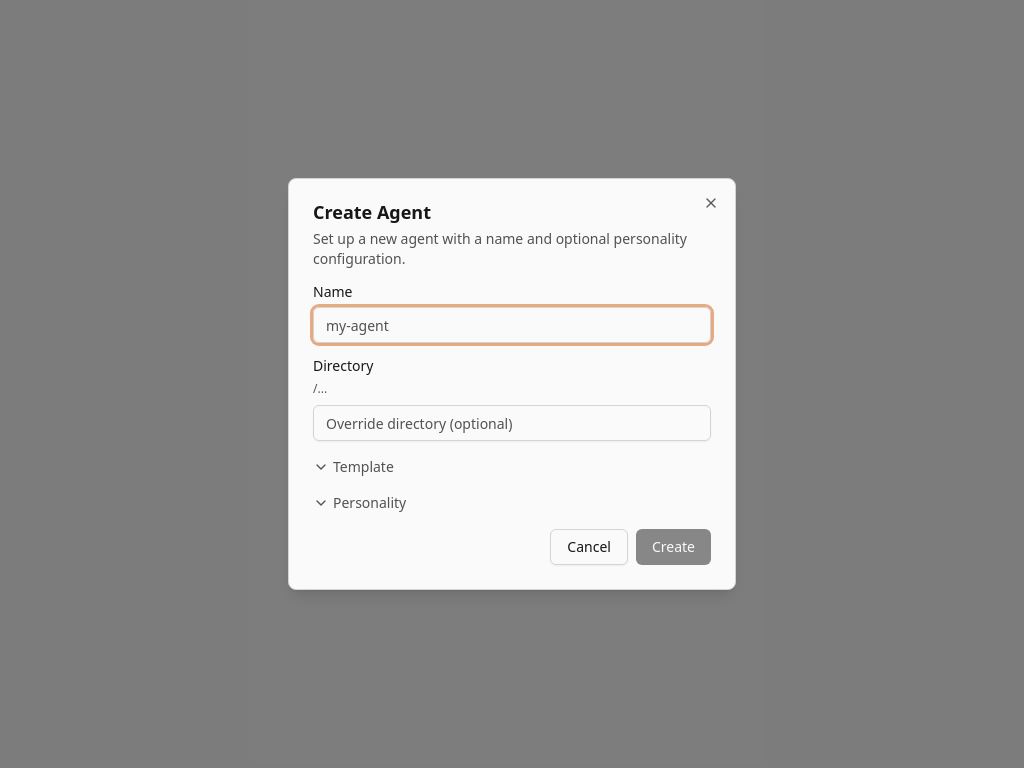
Test: CreateAgentDialog › toggles personality section via collapsible
Step 1. Click the button "Personality" → x=370, y=502, box left=313, top=493, right=711, bottom=513
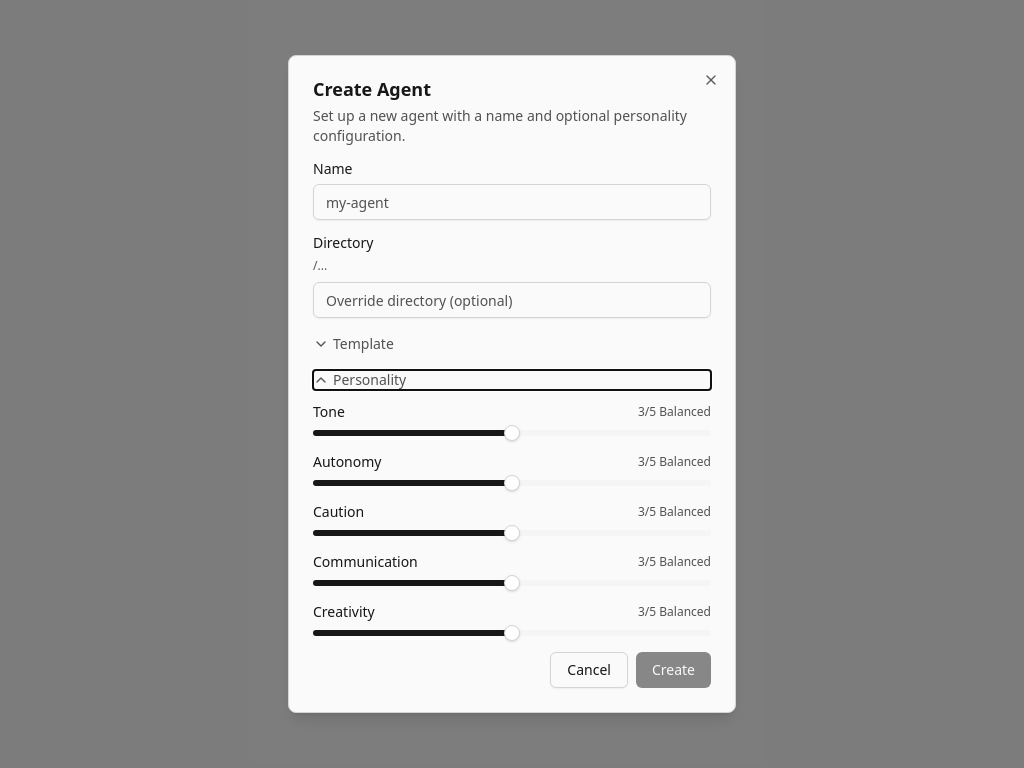
Now the element with test id "personality-section" is shown, box left=313, top=390, right=711, bottom=636
Now the element named "tone trait level" is shown, box left=313, top=430, right=711, bottom=436
Now the element named "autonomy trait level" is shown, box left=313, top=480, right=711, bottom=486
